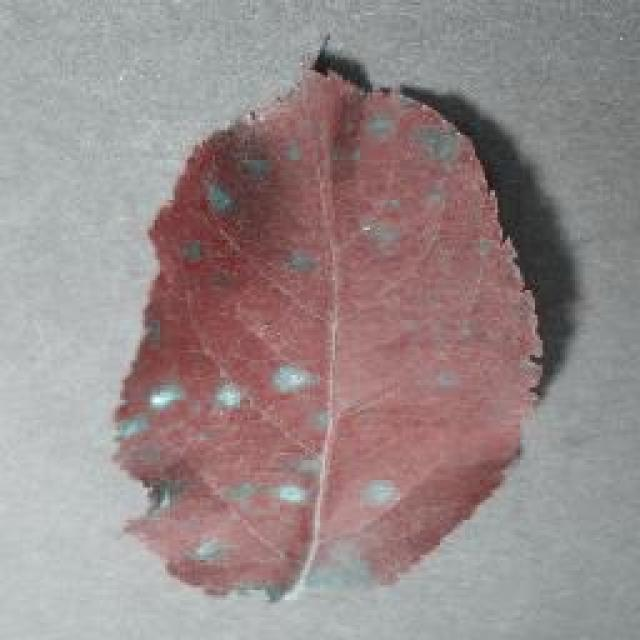apple rust disease: (110, 38, 548, 600)
